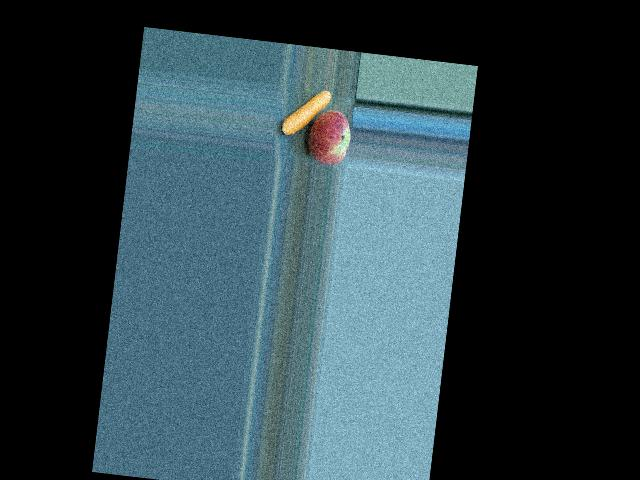carrot: (278, 85, 334, 145)
